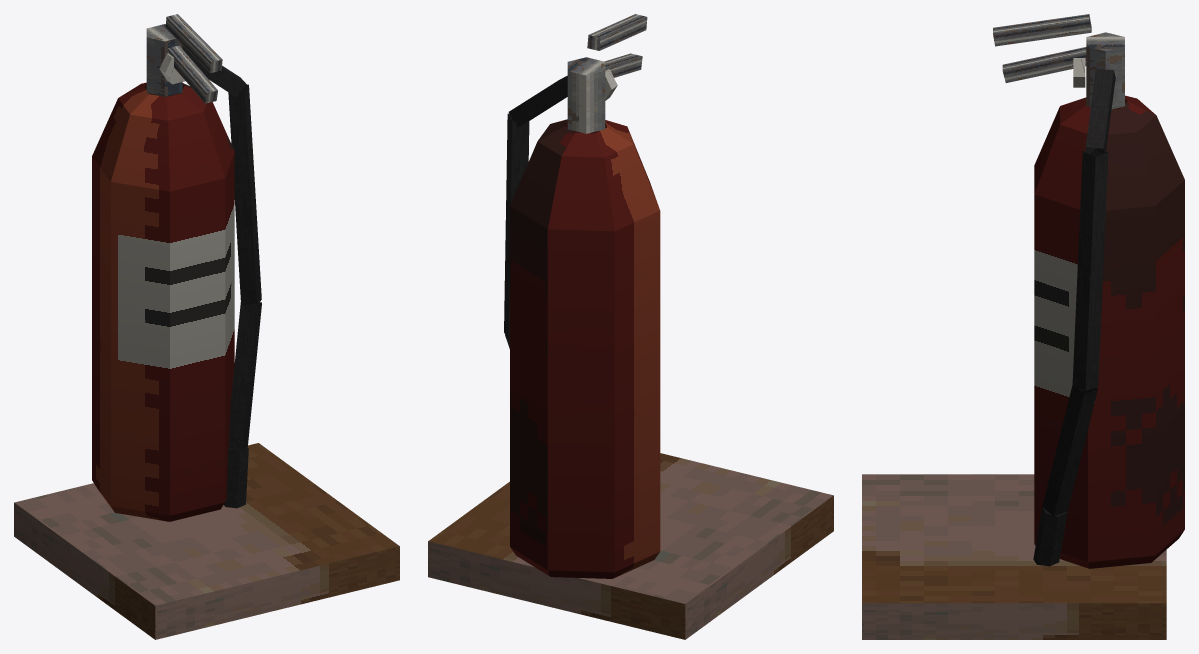
File: prop_fire_extinguisher-0.glb
3 views of the same model, side by side, from view 1: azimuth 30°, elevation 25°; view 2: azimuth 150°, elevation 25°; view 3: azimuth 270°, elevation 25° (orthographic). The views are drawn at different scales.
Parts seen in each view (by area): view 1: prop_fire_extinguisher-0; view 2: prop_fire_extinguisher-0; view 3: prop_fire_extinguisher-0.
Part boxes in pixels (box(x1,y1,x2,y2)): prop_fire_extinguisher-0: box(14, 14, 399, 639); prop_fire_extinguisher-0: box(428, 14, 833, 639); prop_fire_extinguisher-0: box(862, 14, 1184, 639).
Size of the model in its own units: 0.3 by 0.6069 by 0.318.
2 materials, 2 textured.
